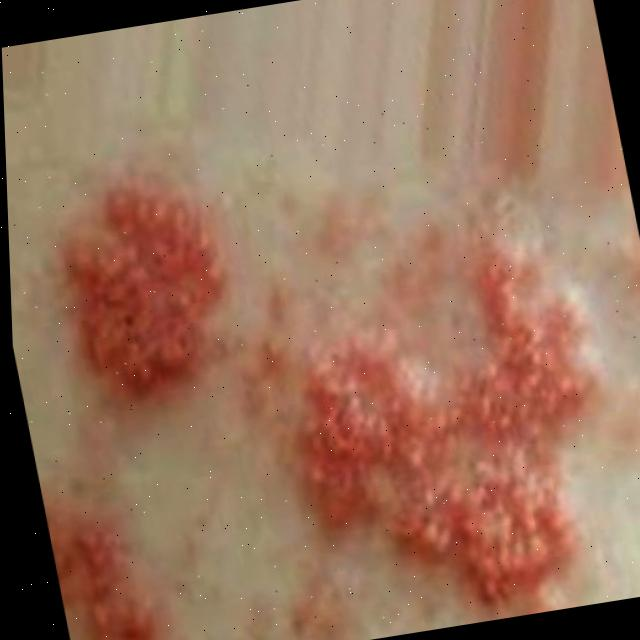Shingles: (4, 104, 640, 640)
